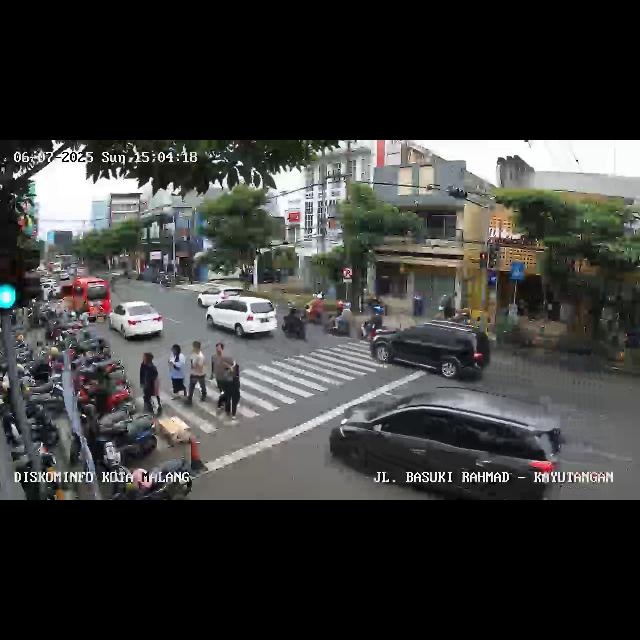car: (331, 402, 559, 500), (377, 318, 491, 382), (205, 294, 279, 342), (108, 301, 164, 343), (60, 278, 109, 322), (196, 282, 242, 308)
motorcycle: (282, 300, 310, 344), (328, 306, 352, 342), (362, 304, 383, 342), (304, 295, 324, 327)
person: (139, 352, 161, 421), (189, 341, 209, 412), (167, 342, 186, 412), (220, 356, 240, 422), (210, 342, 226, 416)
